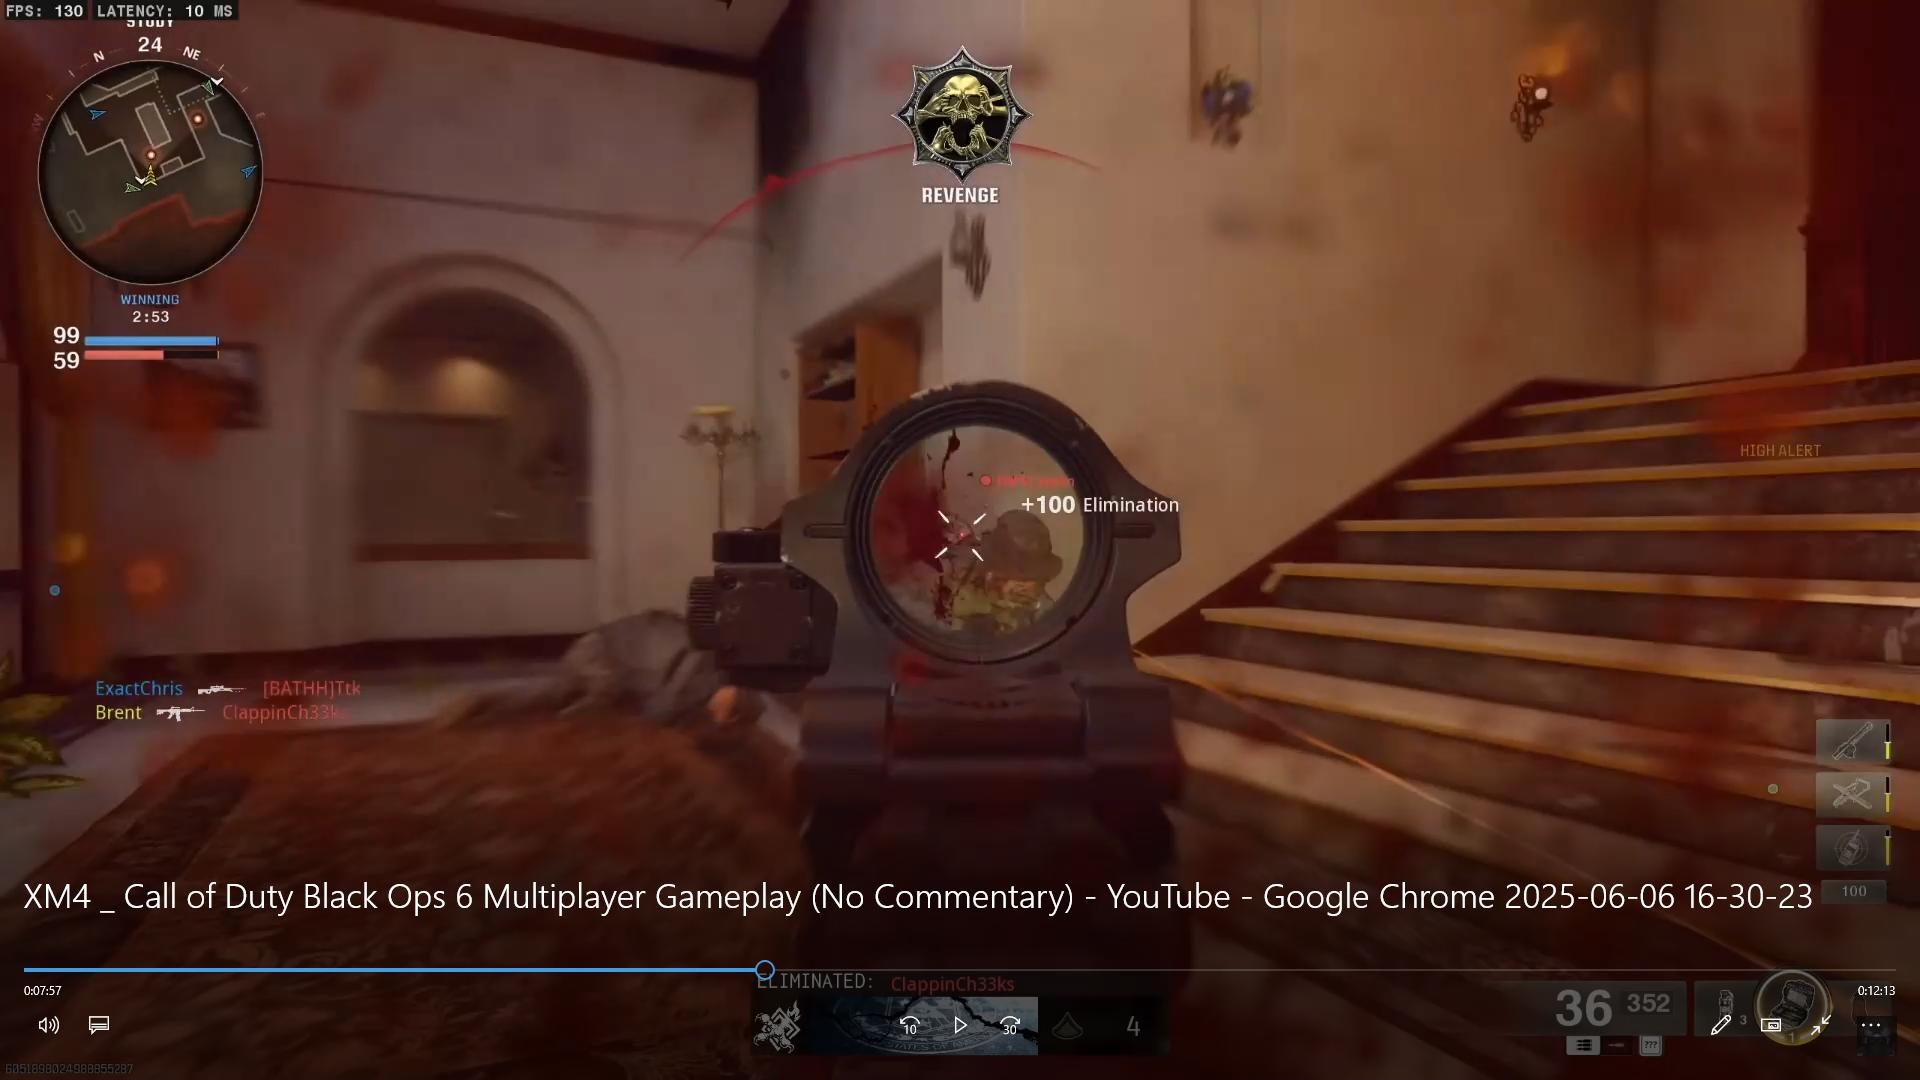Enemy: (949, 502, 1080, 628)
